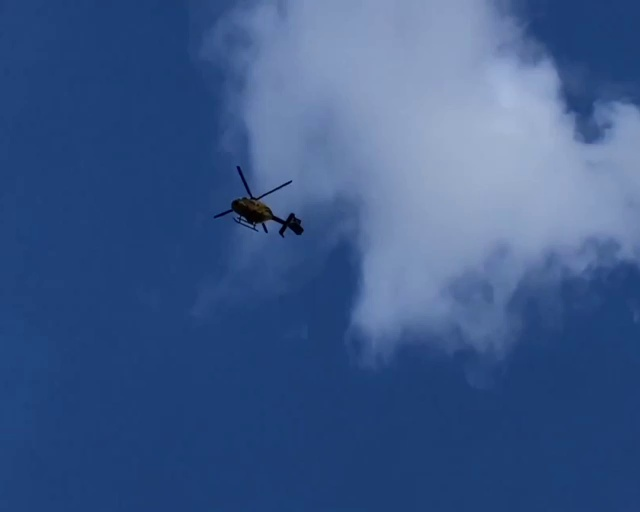HELICOPTER: (212, 164, 305, 237)
